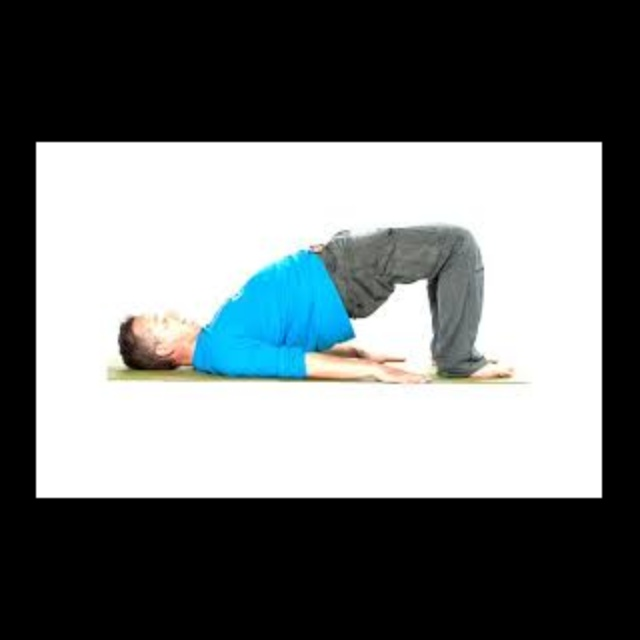Bridge_Pose: (93, 219, 528, 390)
